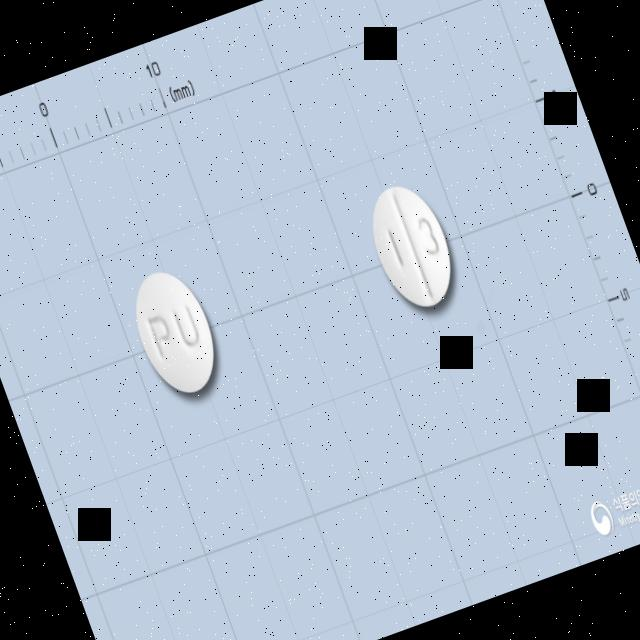Rheumakin Tab: (120, 258, 231, 404), (358, 175, 466, 318)
